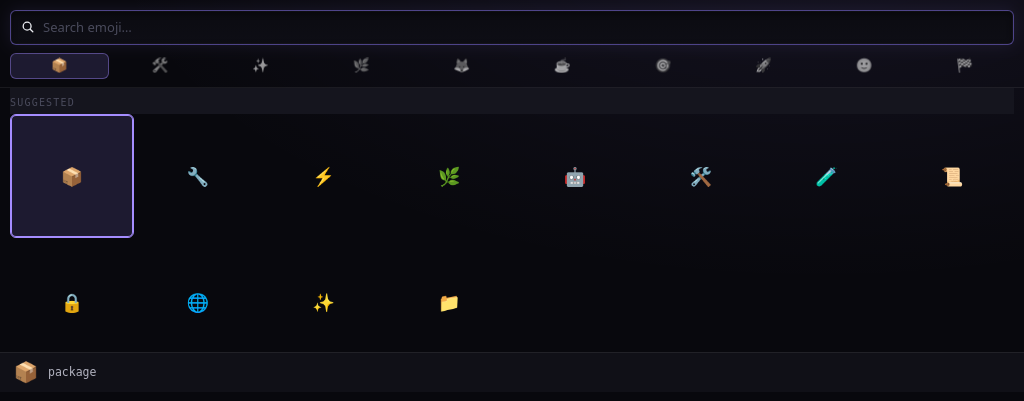
it: EmojiPicker › typing 'zzzz' shows the empty state
In the field labelled "Search emoji": (523, 27) [43,18,1003,37], type "zzzz"
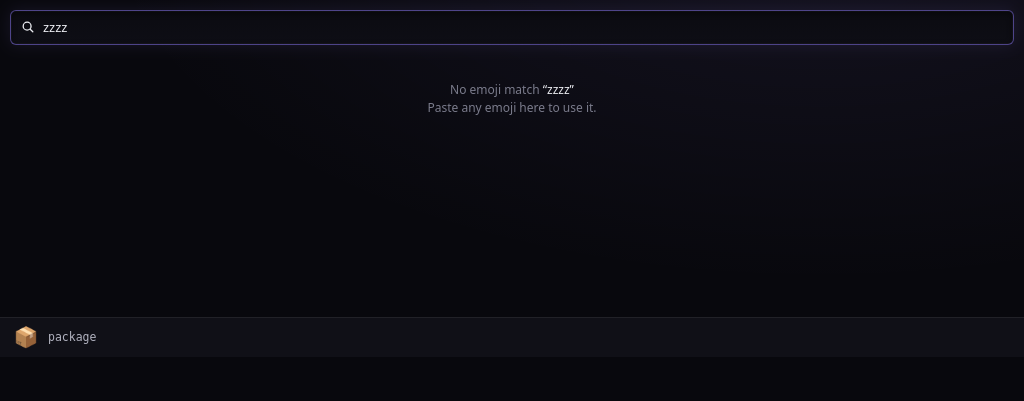
Expected: the element with class "emoji-picker-empty" is shown, [427,81,596,116]
Expected: the text "No emoji match “zzzz”" is shown, [450,81,574,98]
